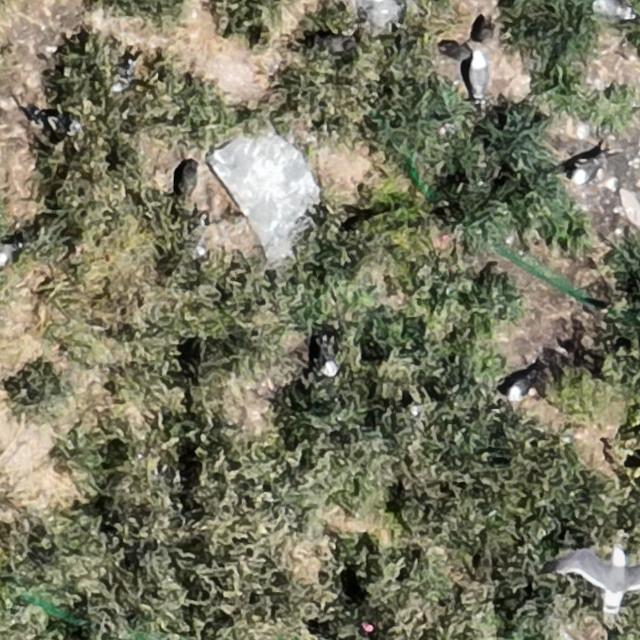F: (566, 546, 640, 604)
umineko: (319, 334, 342, 380), (469, 54, 488, 96), (594, 1, 630, 19), (572, 163, 600, 184), (508, 376, 531, 399), (0, 242, 14, 265)
